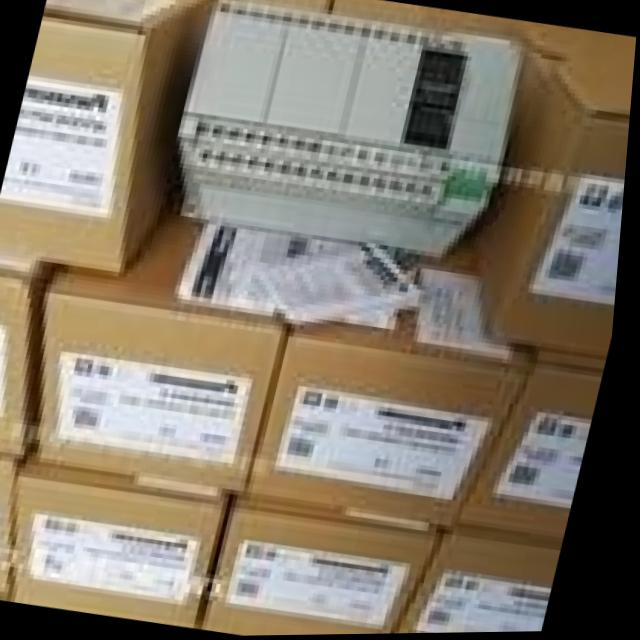box: (180, 0, 526, 264), (256, 229, 538, 528), (46, 185, 293, 493), (475, 22, 637, 358), (21, 448, 235, 630), (208, 493, 454, 637), (465, 347, 613, 544), (405, 524, 572, 635), (0, 251, 65, 464), (0, 456, 30, 593)
